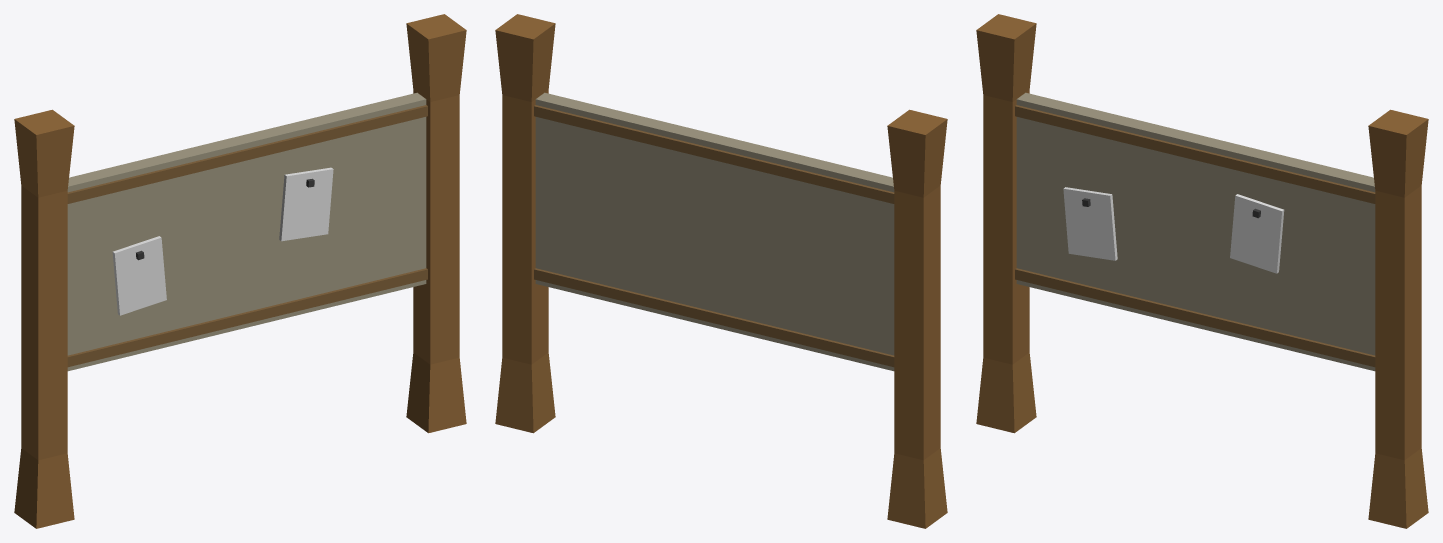
The model's file is JobBoard_Full2.fbx.
3 renders of one model, left to right at view 1: azimuth 30°, elevation 25°; view 2: azimuth 150°, elevation 25°; view 3: azimuth 330°, elevation 25°, orthographic.
Visible parts, largest first — view 1: Cube.352; view 2: Cube.352; view 3: Cube.352.
Boxes of the visible parts, box(x1,y1,x2,y2) form: Cube.352: box(14, 14, 466, 528); Cube.352: box(495, 14, 947, 528); Cube.352: box(976, 14, 1428, 528).
Bounding box in the file's own units: 0.39 × 4.39 × 3.84.
